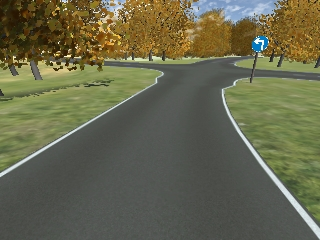left: (250, 35, 269, 52)
